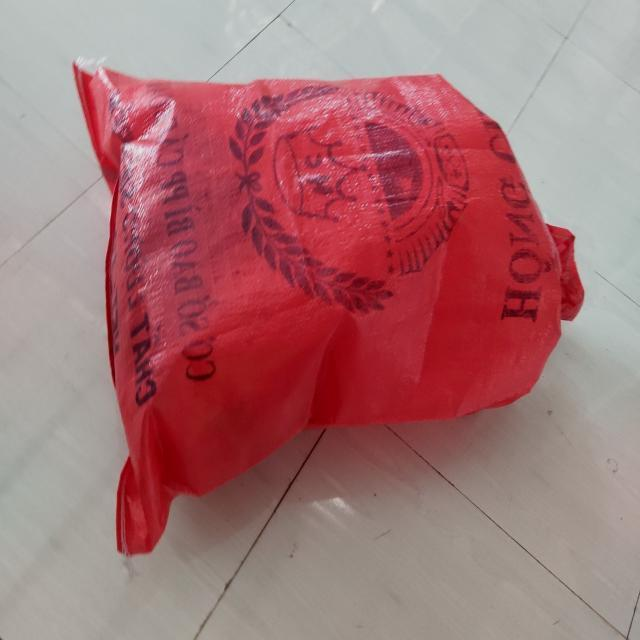gunny_bag: (73, 65, 584, 555)
